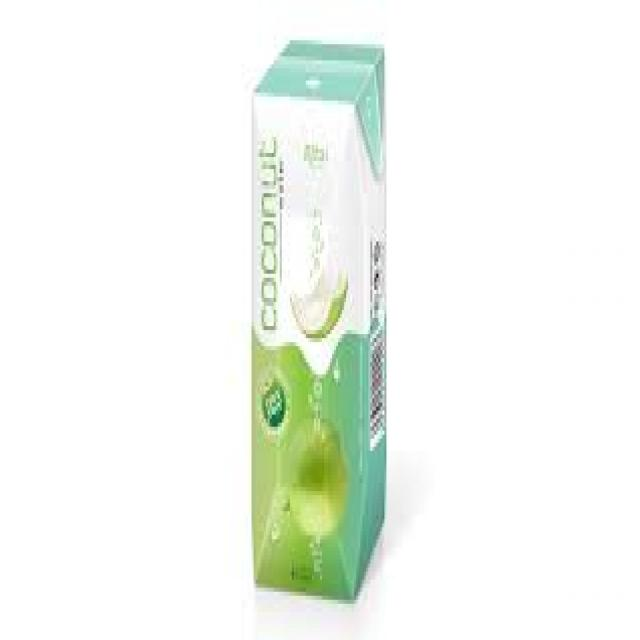non_white_jug: (226, 32, 402, 604)
